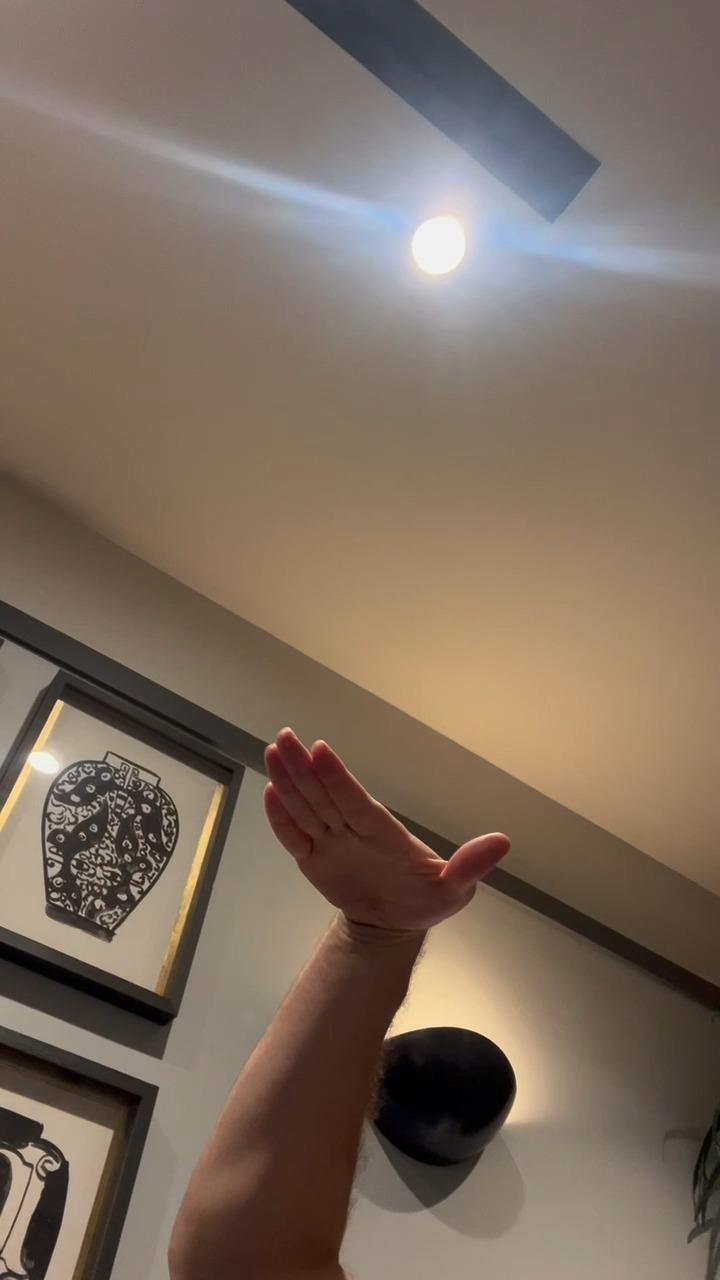Paper: (256, 724, 511, 938)
